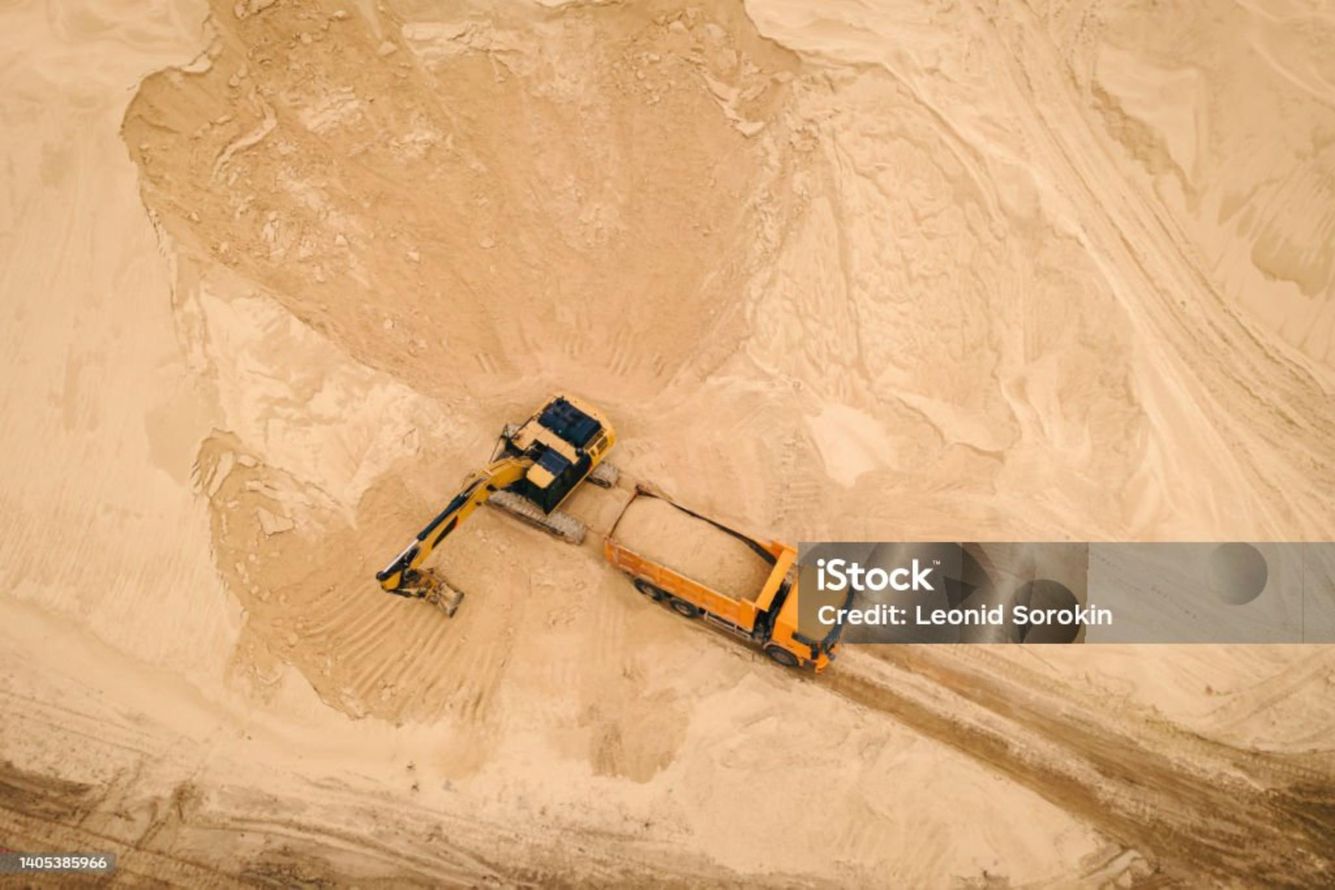excavator: (372, 391, 630, 625)
truck: (593, 482, 893, 686)
wall: (856, 463, 858, 484)
